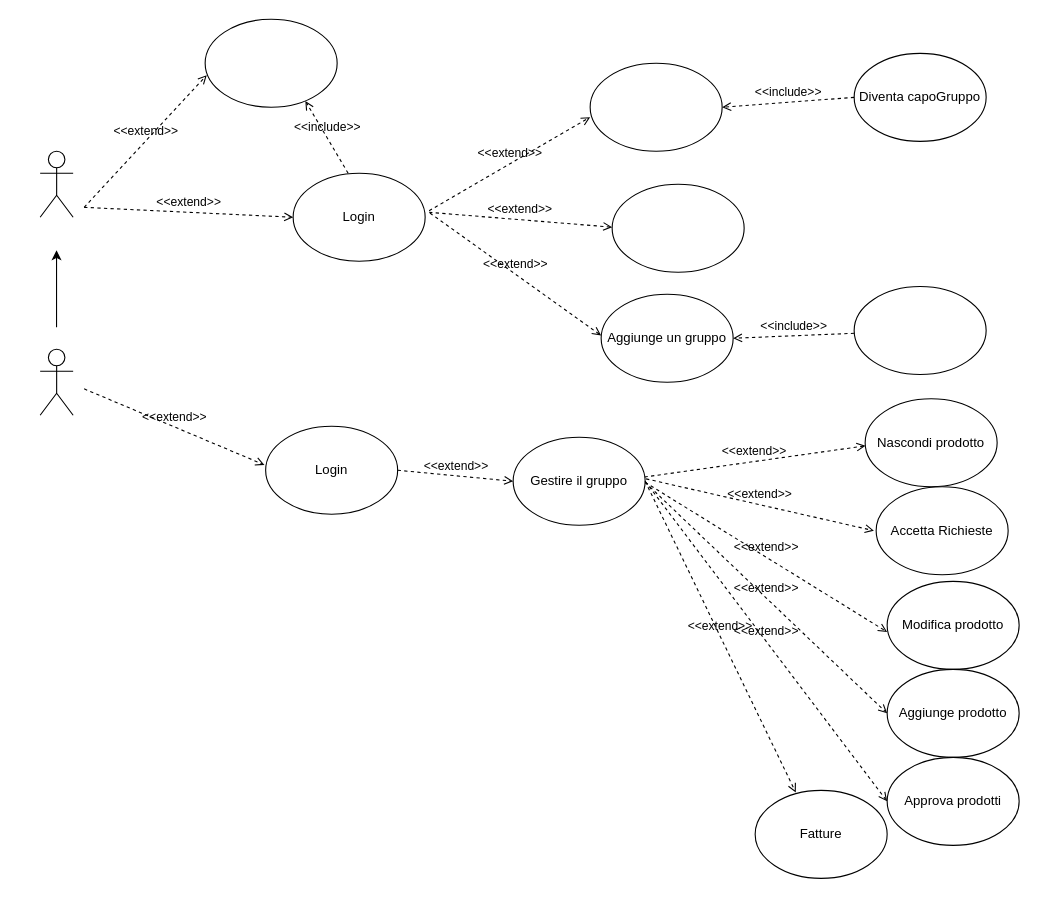
The diagram is 1038 pixels wide and 898 high, and some of its shapes have lost their labels. Each missing label, with the box of its shape:
CapoGruppo: (39, 348, 73, 415)
Crea Gruppo: (589, 62, 722, 151)
Gestire il carello personale: (611, 183, 744, 272)
Registra: (204, 18, 337, 107)
Richiesta: (853, 285, 986, 375)
Utente: (39, 150, 73, 217)
